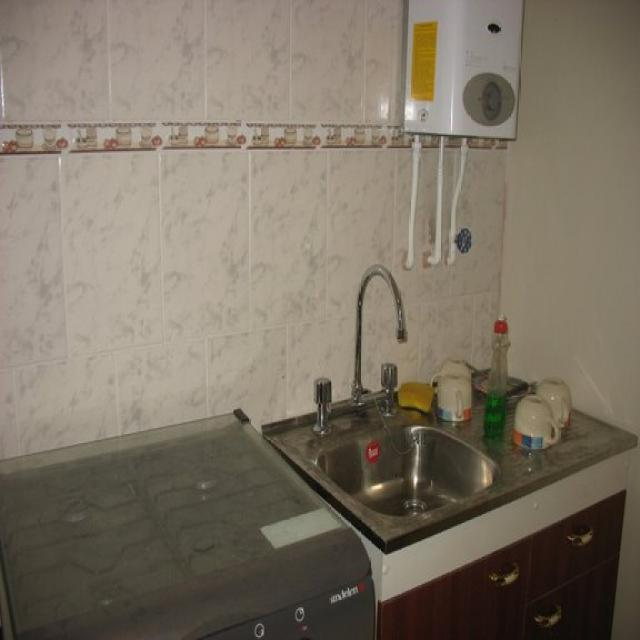boiler: (406, 1, 521, 139)
cooking grate: (8, 496, 181, 625)
countertop: (262, 367, 639, 554)
dishsoap: (480, 310, 509, 436)
drain: (402, 498, 428, 513)
faucet handle: (350, 259, 408, 384), (459, 228, 473, 262)
handle bar: (530, 603, 563, 625), (487, 564, 520, 585), (566, 524, 596, 545)
kitchen towel: (59, 150, 163, 359), (159, 147, 251, 344), (249, 148, 327, 332), (1, 154, 67, 367), (1, 0, 107, 124), (107, 0, 204, 121), (329, 148, 394, 321), (206, 0, 290, 124), (14, 357, 119, 455), (289, 0, 364, 127), (114, 344, 208, 437), (208, 333, 287, 415), (366, 0, 407, 124)
mug: (511, 394, 560, 450), (438, 372, 473, 419)
pipe: (446, 142, 470, 267), (406, 142, 424, 268), (427, 136, 443, 264)
sink basin: (263, 385, 526, 542)
wall clock: (1, 0, 523, 456), (510, 0, 639, 440)
